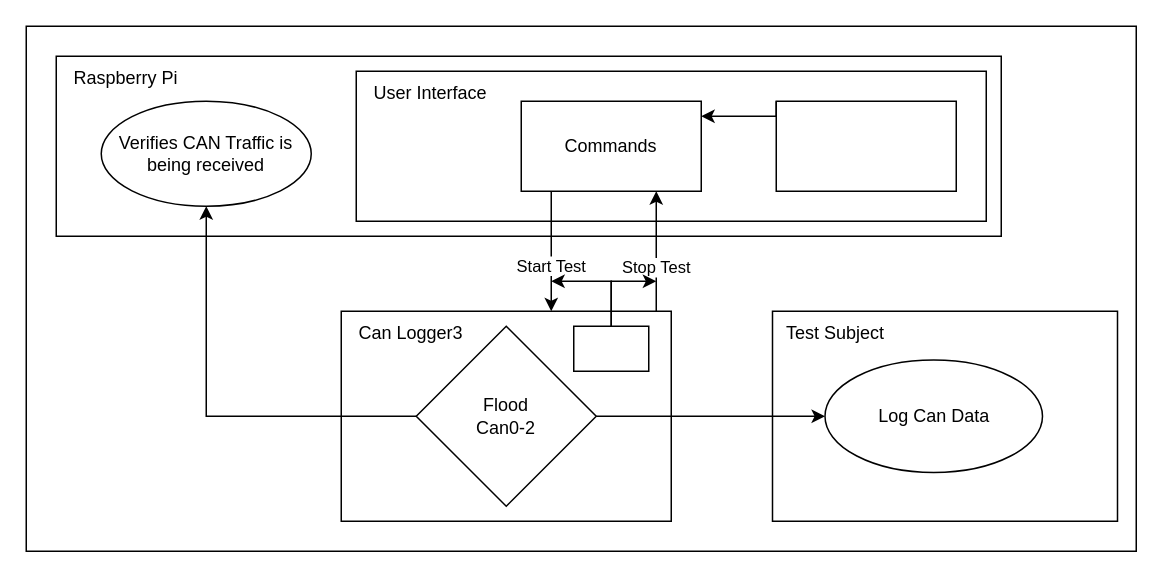
The diagram is 1163 pixels wide and 578 high, and some of its shapes have lost their labels. Here are the shapes that lost their labels. From the top down, the box of each, then its label:
(775, 100, 956, 191): Self Tests
(572, 325, 649, 371): Push Buttons
